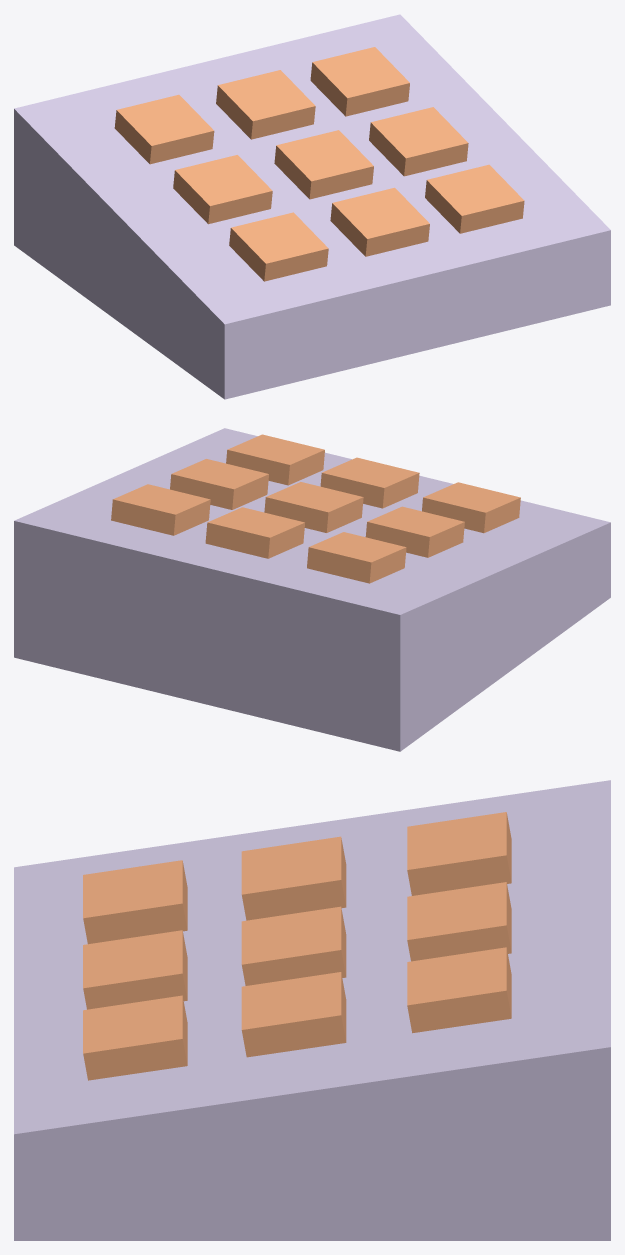
The model's file is pad_music.glb.
3 views of the same model, one above another, from view 1: azimuth 30°, elevation 25°; view 2: azimuth 150°, elevation 25°; view 3: azimuth 270°, elevation 25° (orthographic). The views are drawn at different scales.
Parts seen in each view (by area): view 1: Pad, Keys.002, Keys.001, Keys.003, Keys.006, Keys.004, Keys.005, Keys.007, Keys.008, Keys.009; view 2: Pad, Keys.003, Keys.001, Keys.002, Keys.004, Keys.006, Keys.005, Keys.007, Keys.008, Keys.009; view 3: Pad, Keys.003, Keys.006, Keys.009, Keys.004, Keys.001, Keys.007, Keys.005, Keys.002, Keys.008.
Boxes of the visible parts, x1,y1,x2,y2 form: Pad: (14,14,610,399); Keys.002: (216,70,315,139); Keys.001: (114,94,214,164); Keys.003: (310,47,409,116); Keys.006: (369,107,468,176); Keys.004: (173,155,272,224); Keys.005: (274,130,373,199); Keys.007: (229,212,328,281); Keys.008: (330,187,429,256); Keys.009: (425,164,524,233); Pad: (14,428,610,751); Keys.003: (111,484,210,535); Keys.001: (307,532,406,583); Keys.002: (205,507,304,558); Keys.004: (365,506,464,557); Keys.006: (170,459,268,509); Keys.005: (264,482,363,532); Keys.007: (422,482,520,533); Keys.008: (320,457,419,508); Keys.009: (226,434,324,485); Pad: (14,780,610,1240); Keys.003: (407,947,511,1033); Keys.006: (241,972,346,1057); Keys.009: (83,995,187,1080); Keys.004: (241,836,346,920); Keys.001: (407,812,511,895); Keys.007: (83,860,187,944); Keys.005: (241,906,346,985); Keys.002: (407,882,511,961); Keys.008: (83,930,187,1009).
Size of the model in its own units: 1.43 by 0.5188 by 1.35.
